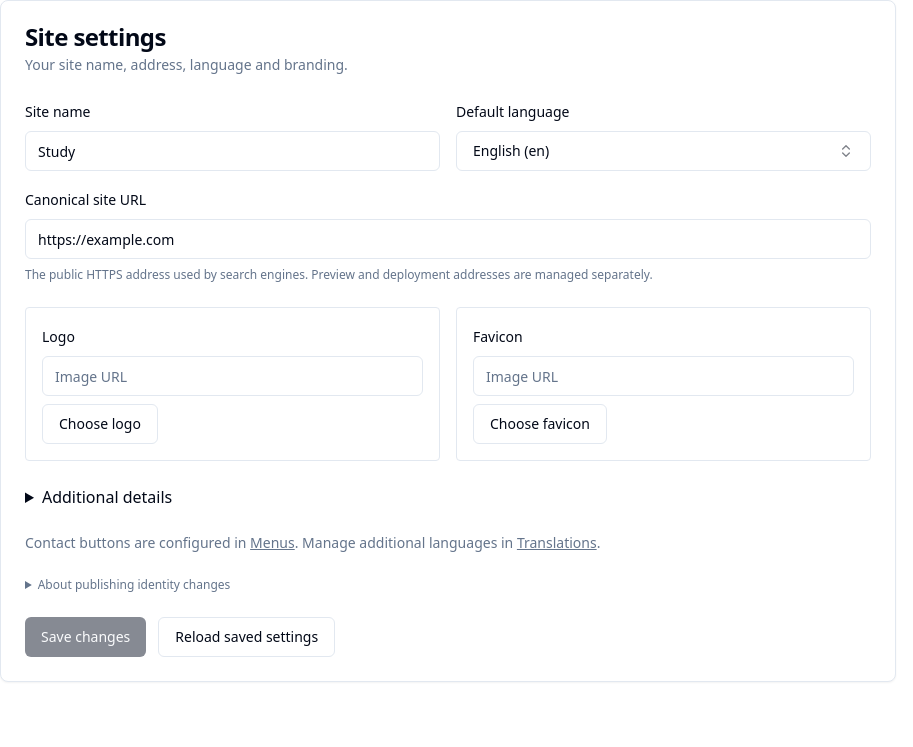
Test: unified site settings › blocks stale saves before writing either API
Replace the text in the field labelled "Site name" with "Retain me" at (232, 151), box [25,131,440,171]
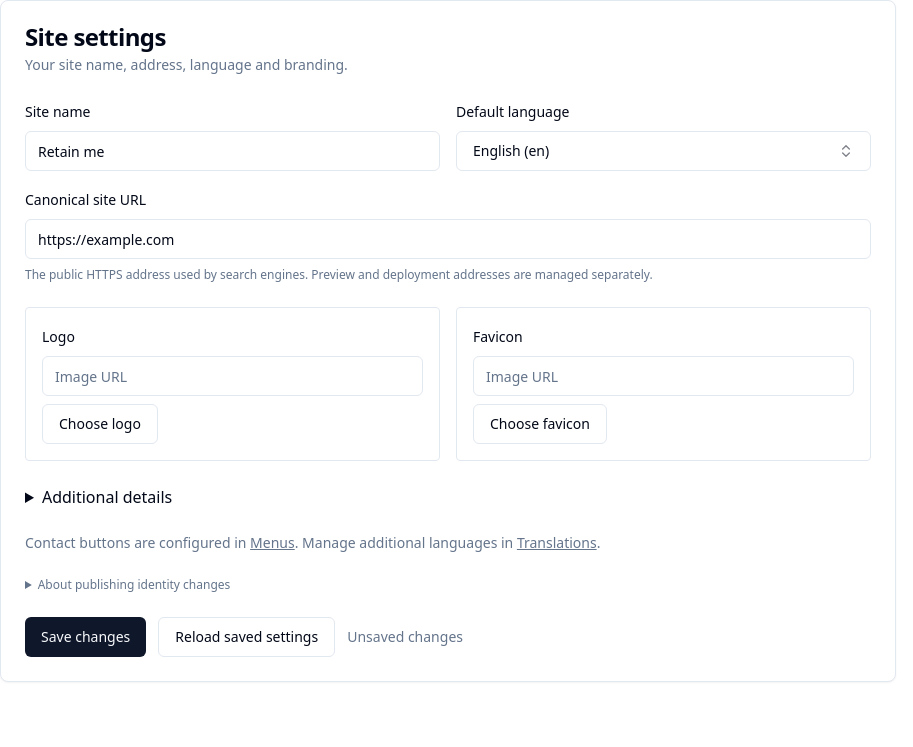
Click the button "Save changes" at (86, 637), box [25,617,146,657]
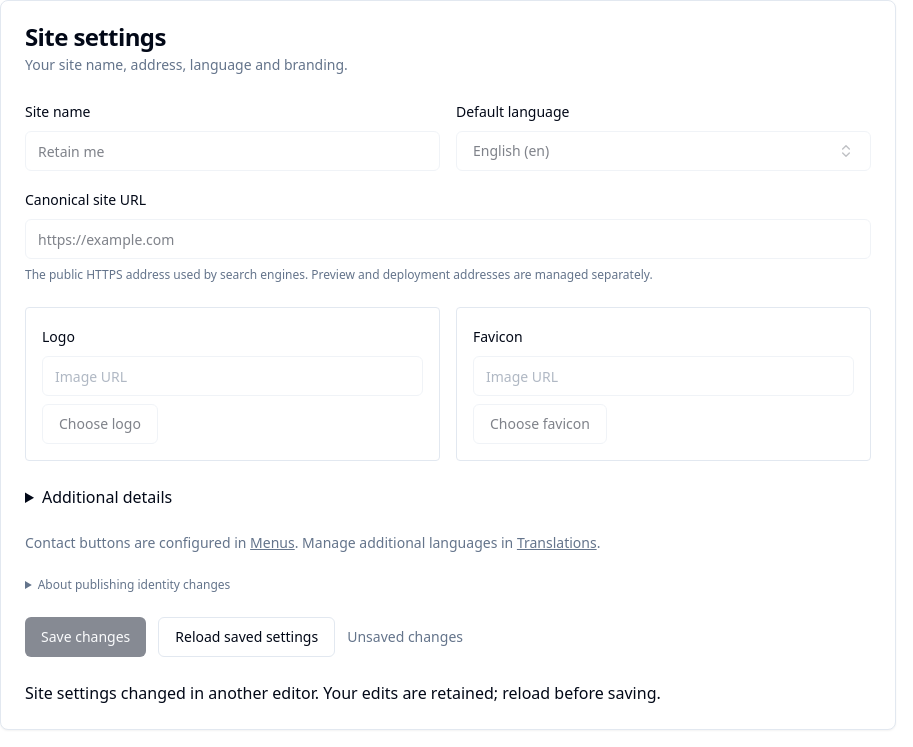
Result: the text "changed in another editor" is shown at [25,682,661,704]
Result: the button "Save changes" is disabled at [25,617,146,657]
